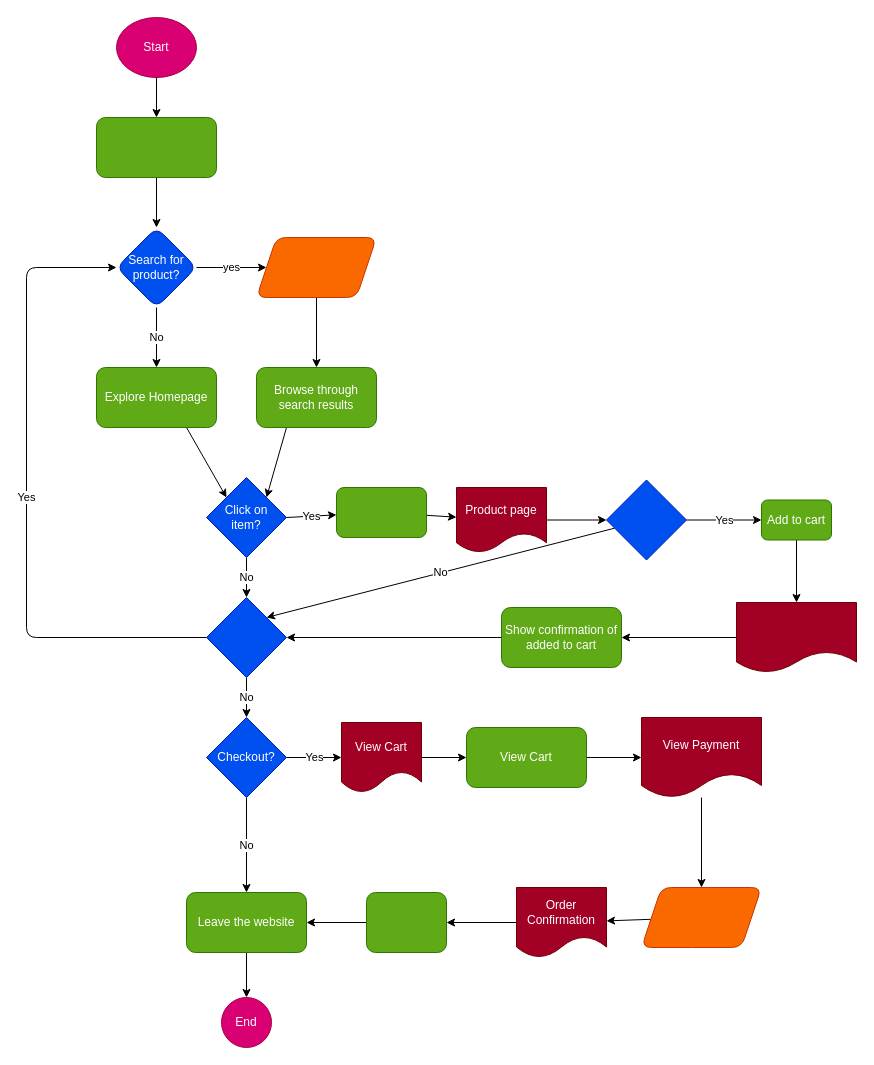
Image size: 874x1065. Some labels were removed from this diagram. Here are the shapes that lost their labels. From the top down, the box of each, then its label:
(96, 116, 216, 178): User enter Website
(256, 236, 376, 298): Input for Search Product
(336, 486, 426, 538): Load product page
(606, 479, 686, 560): Add to cart?
(206, 596, 286, 678): Continue Shopping?
(736, 602, 856, 672): Confirmation of added to cart
(366, 892, 446, 952): Send confirmation email
(640, 886, 762, 948): Input for payment Information
